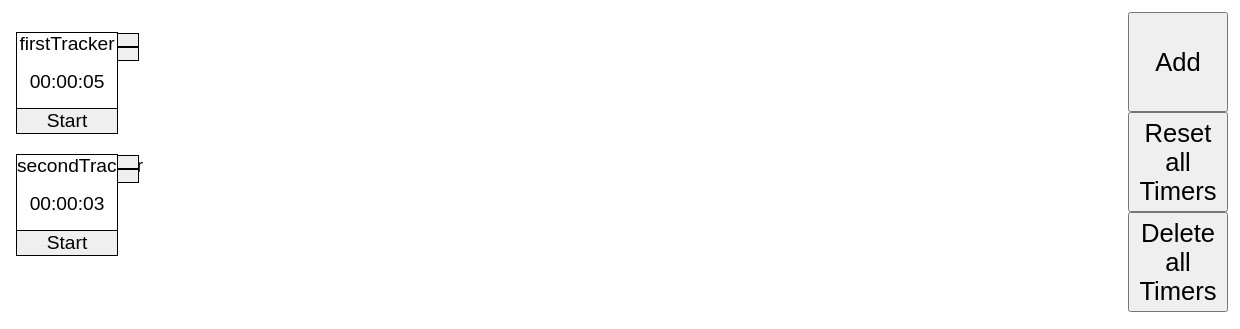
Test case: The Home Page › Delete tracker works
This screenshot has width=1240, height=329.
Expected: the element with test id "tracker" showing "secondTracker 00:00:03 Start" is shown, [16,154,118,256]
Click the button with test id "delete" next to "secondTracker" at (128, 162), box [117,155,139,169]
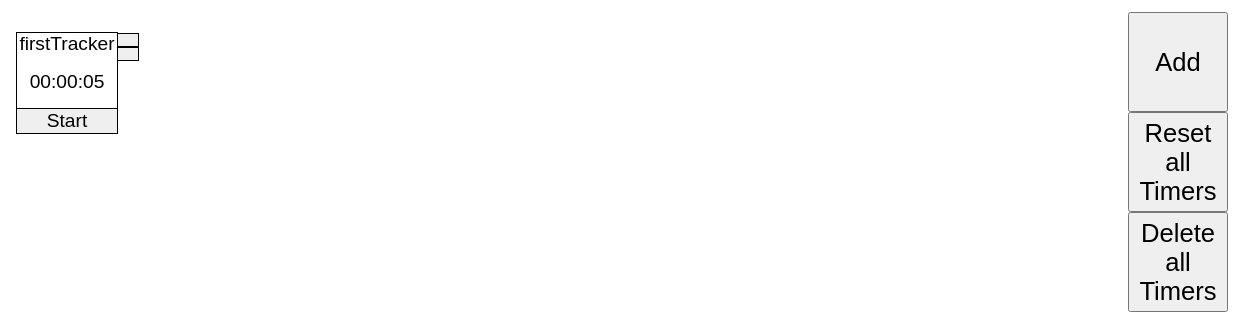
Now the text "secondTracker 00:00:03 Start" is gone
